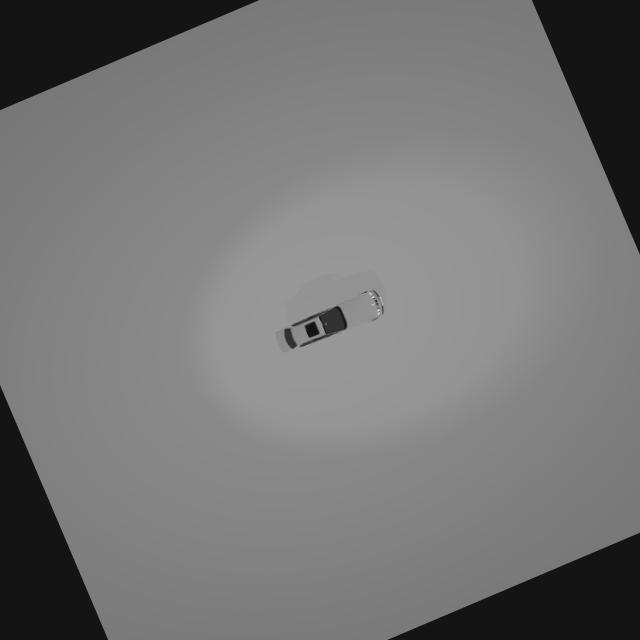Car: (264, 282, 395, 362)
